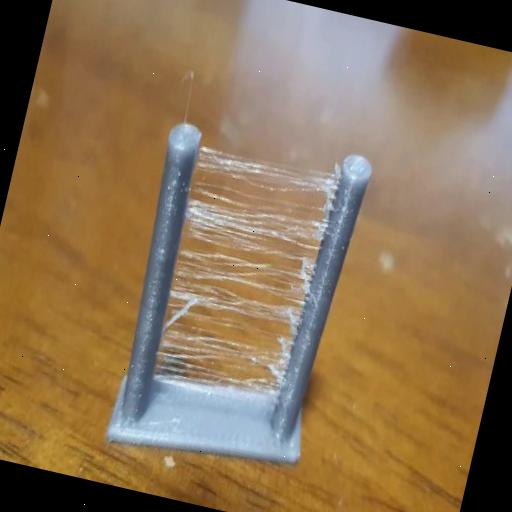stringing: (156, 149, 340, 394)
